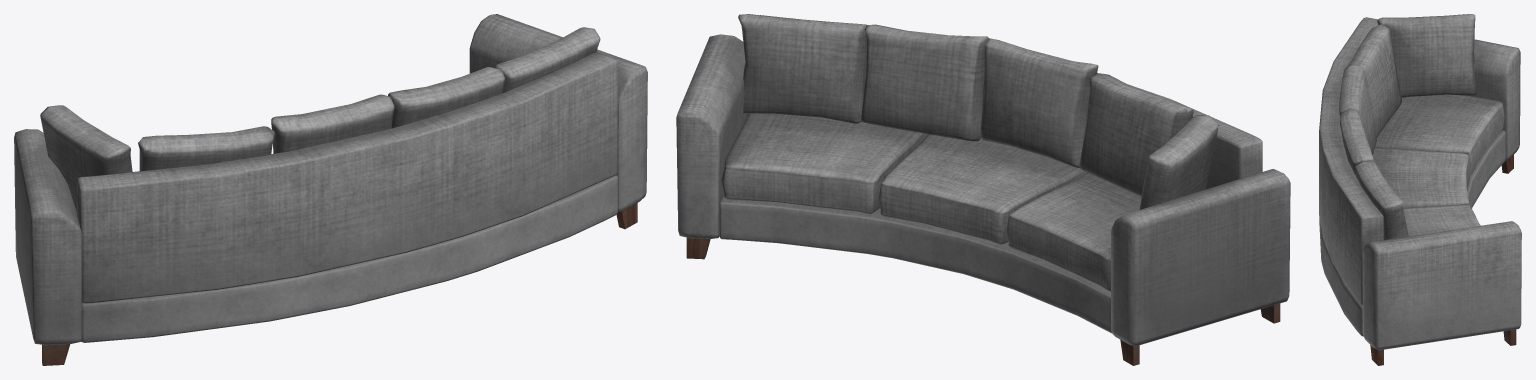
Rendered from Sofa 5.FBX.
The picture shows the model from 3 angles, left to right: view 1: azimuth 30°, elevation 25°; view 2: azimuth 150°, elevation 25°; view 3: azimuth 270°, elevation 25°; orthographic projection. The views are drawn at different scales.
Visible parts, largest first — view 1: Sofa 5; view 2: Sofa 5; view 3: Sofa 5.
Boxes of the visible parts, left/top/right/bottom form: Sofa 5: left=14, top=14, right=647, bottom=365; Sofa 5: left=676, top=14, right=1290, bottom=365; Sofa 5: left=1319, top=14, right=1521, bottom=365.
Bounding box in the file's own units: 382 × 123 × 142.
